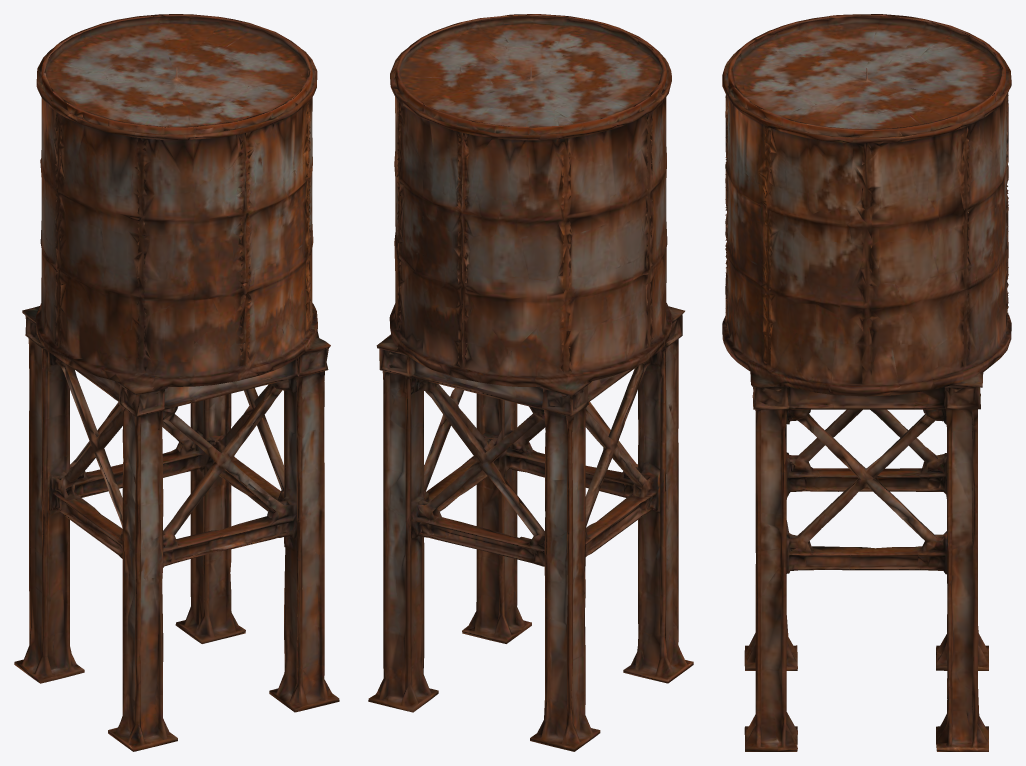
File: wt_rust.glb
The picture shows the model from 3 angles, left to right: view 1: azimuth 30°, elevation 25°; view 2: azimuth 150°, elevation 25°; view 3: azimuth 270°, elevation 25°; orthographic projection. The views are drawn at different scales.
Visible parts, largest first — view 1: wt_rust; view 2: wt_rust; view 3: wt_rust.
Part boxes in pixels (x1,y1,x2,y2): wt_rust: [14, 14, 339, 751]; wt_rust: [368, 14, 693, 751]; wt_rust: [722, 14, 1011, 751].
Bounding box in the file's own units: 79.27 × 191 × 79.3.
1 material, 1 textured.
